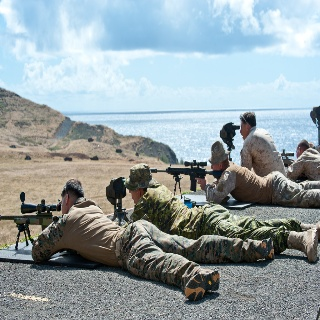rifle: (1, 191, 62, 250), (152, 159, 224, 197)
